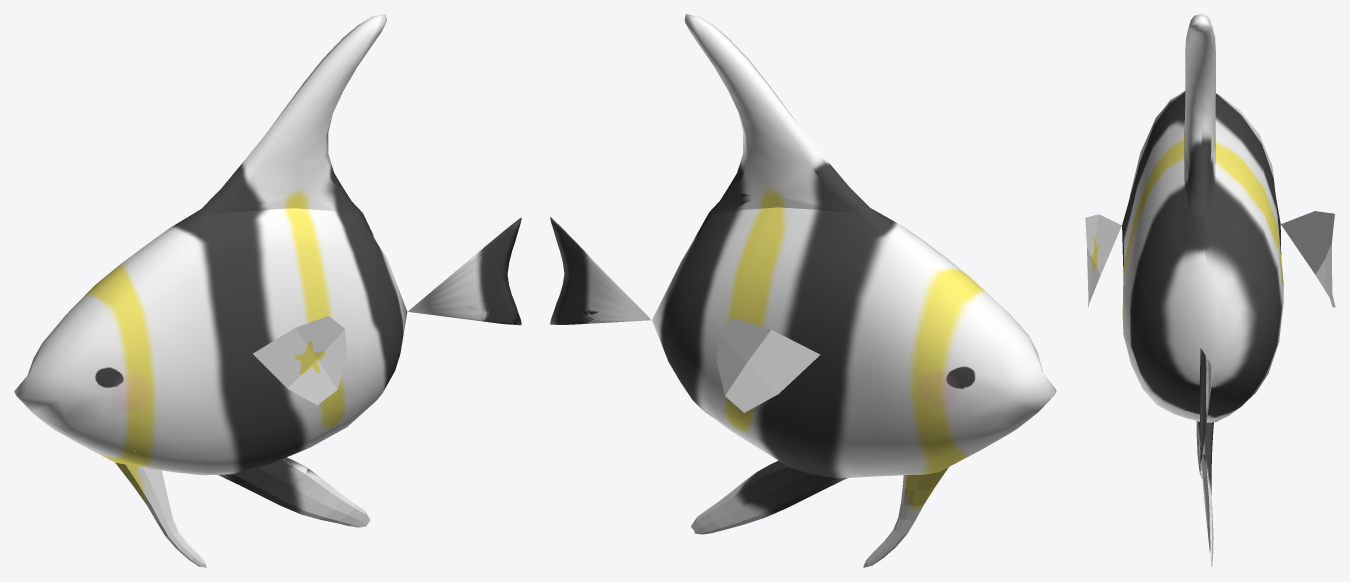
The model's file is angle.fbx.
3 renders of one model, left to right at view 1: azimuth 30°, elevation 25°; view 2: azimuth 150°, elevation 25°; view 3: azimuth 270°, elevation 25°, orthographic. The views are drawn at different scales.
Visible parts, largest first — view 1: 円柱; view 2: 円柱; view 3: 円柱.
Part boxes in pixels (<box>): 円柱: <box>14,14,521,567</box>; 円柱: <box>550,14,1056,567</box>; 円柱: <box>1085,14,1335,566</box>.
Size of the model in its own units: 429 by 416 by 170.
